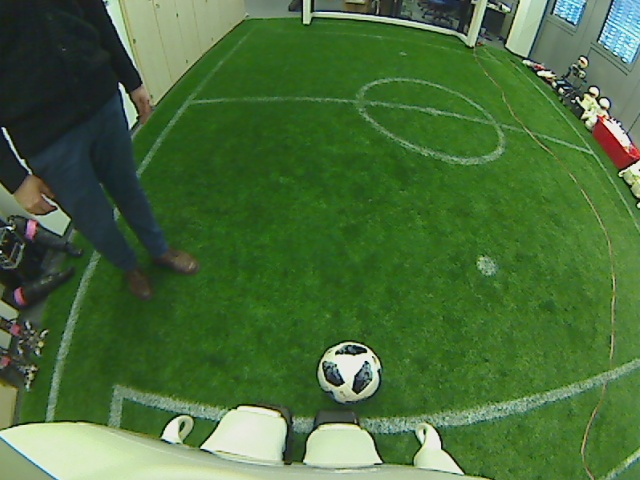ball: (315, 340, 381, 403)
